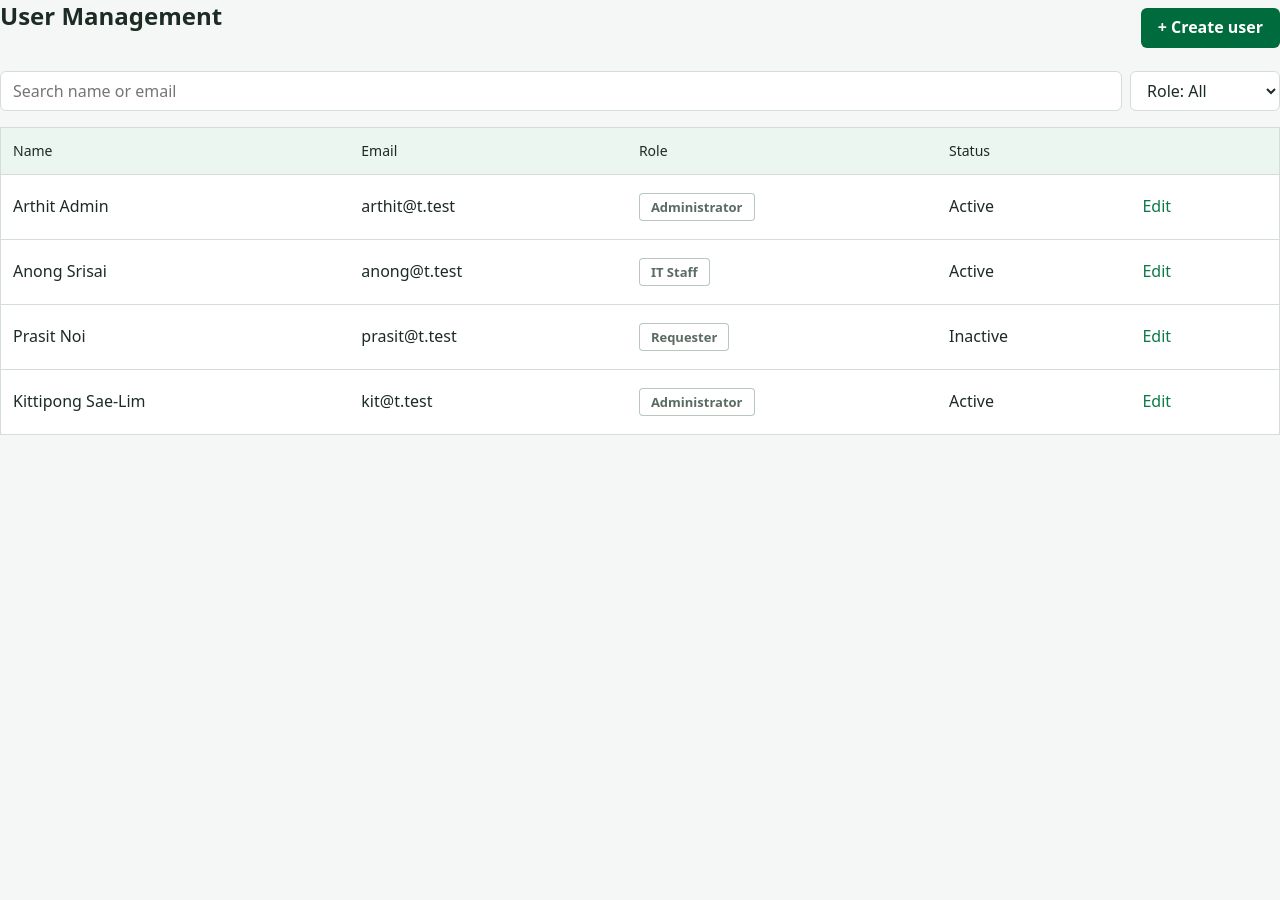
User Management › UI-30: a new initial password is confirmed and reports the consequence
Click the button with aria-label "Edit Anong Srisai": {"x": 1157, "y": 272} [1133,252,1180,292]
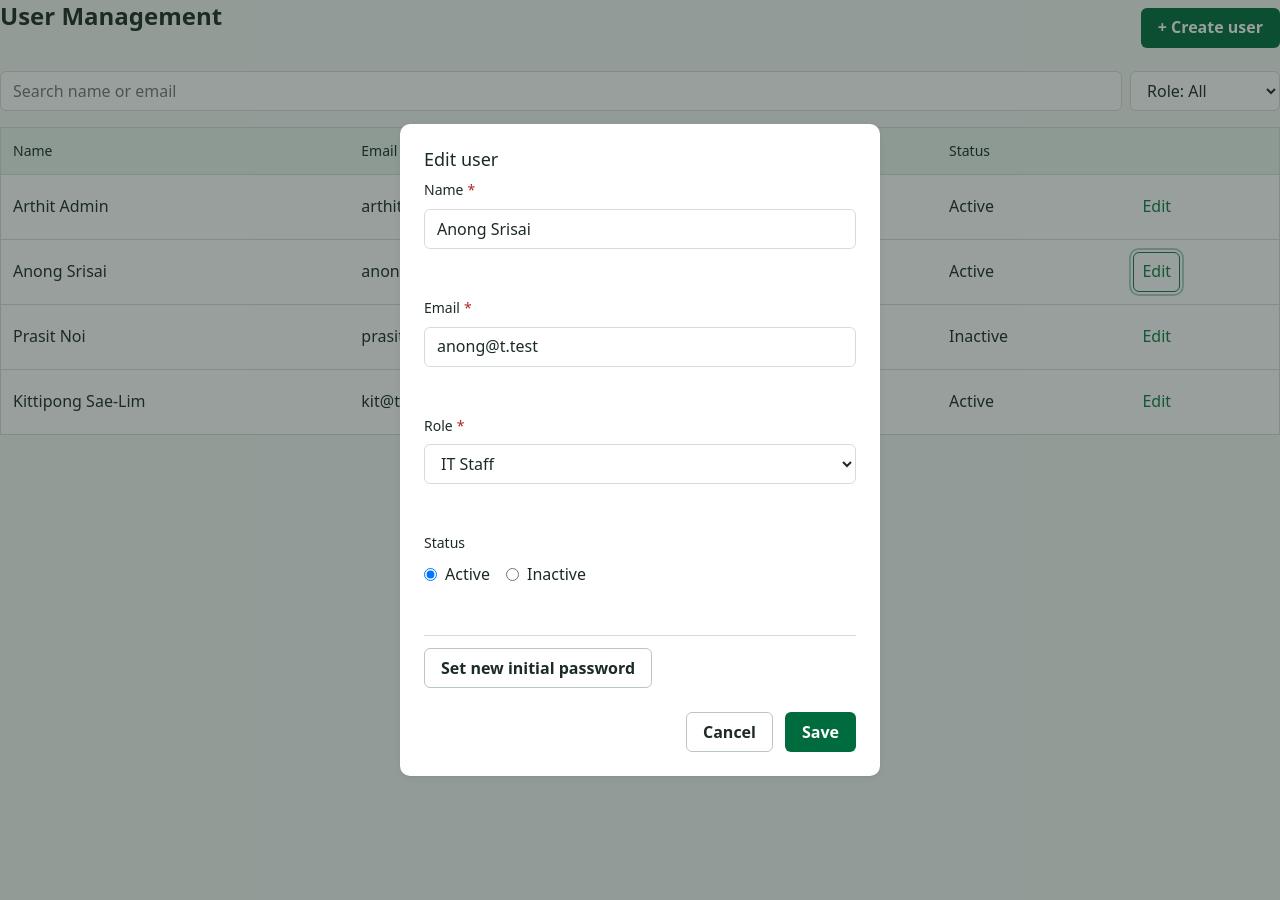
Click the button "Set new initial password": {"x": 538, "y": 668} [424,648,652,688]
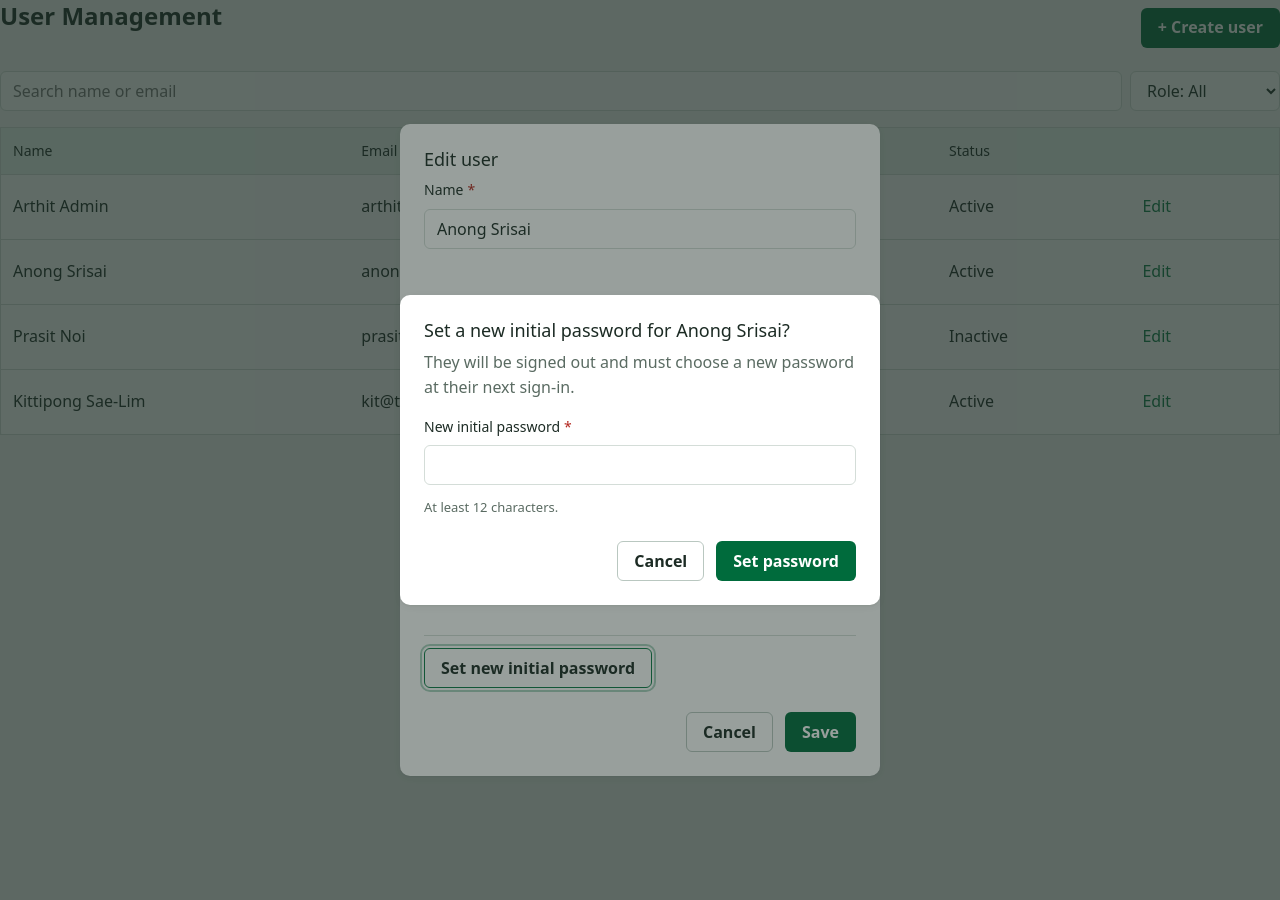
Expected: the dialog named "Set new initial password" shows "They will be signed out and must choose a new password at their next sign-in.", [424,351,854,398]
In the password field labelled "New initial password*": {"x": 640, "y": 465} [424,445,856,485], type "FreshInitial!2026"
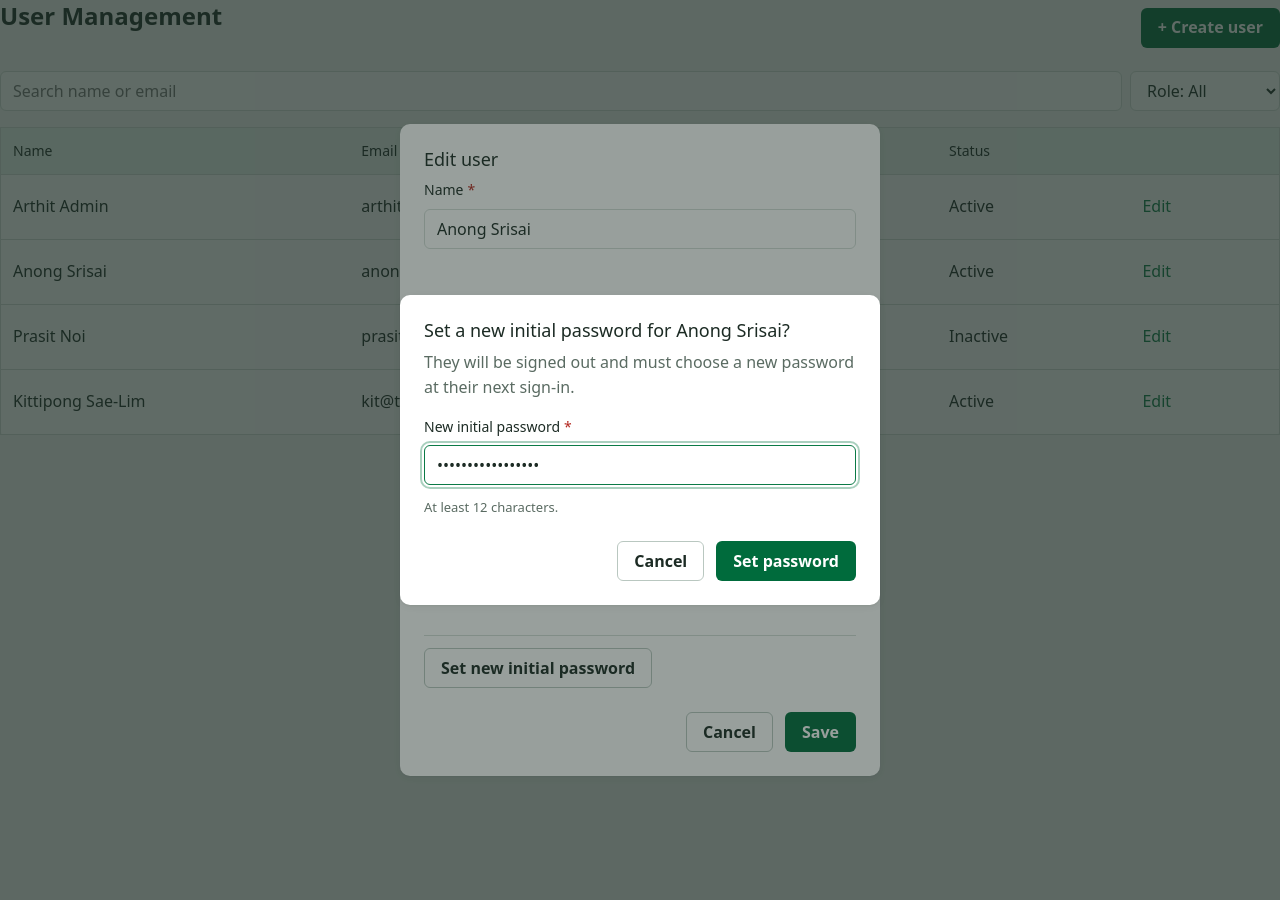
Click the button "Set password": {"x": 786, "y": 561} [716,541,856,581]
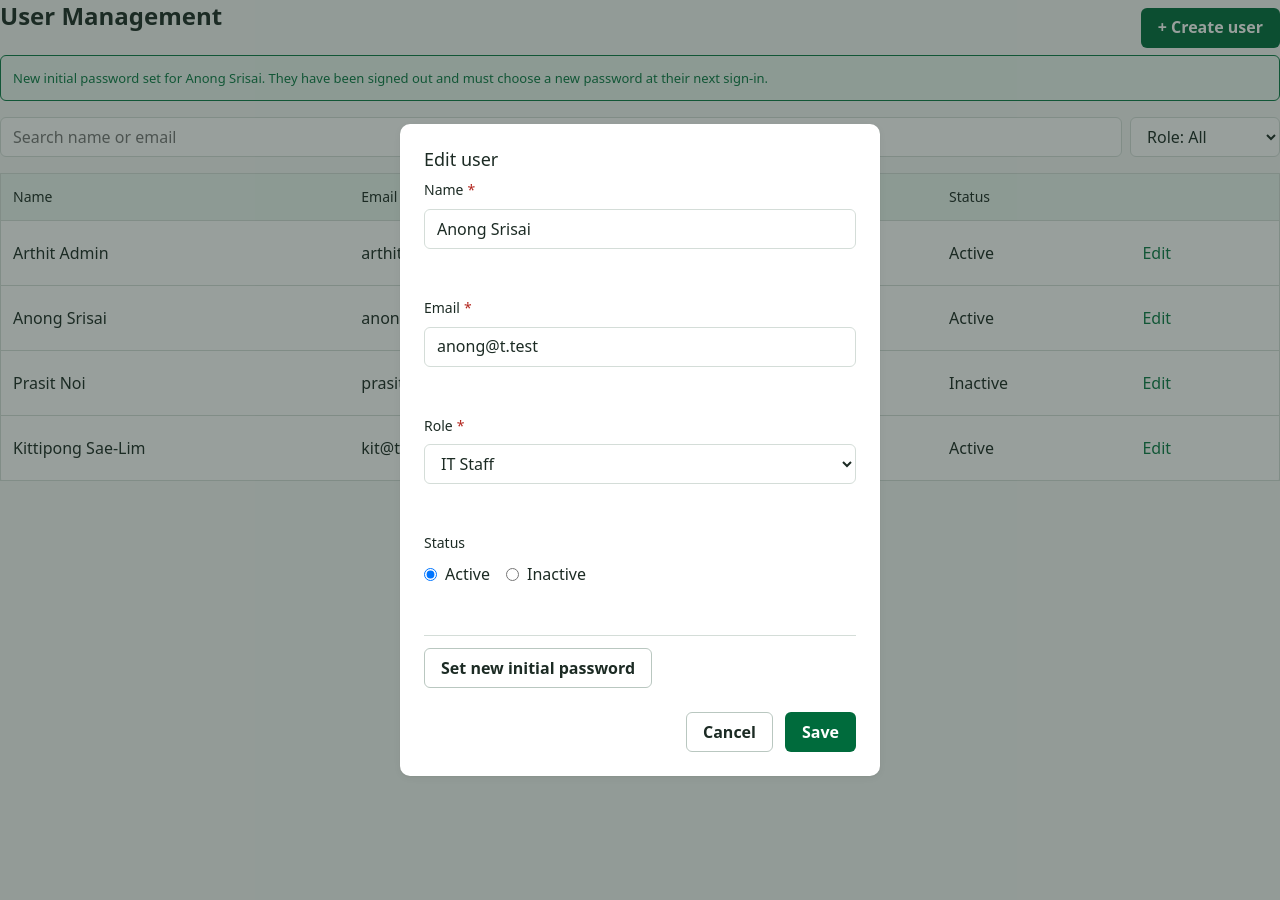
Expected: the text "must choose a new password at their next sign-in" is shown, [13,69,768,87]
